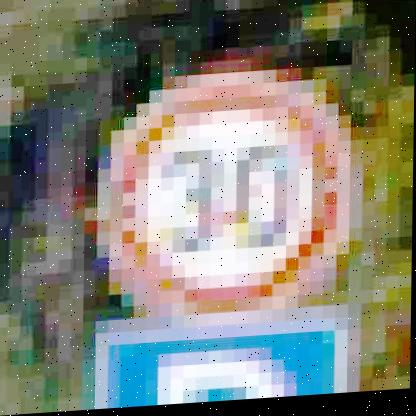Speed Limit -30-: (100, 67, 354, 329)
